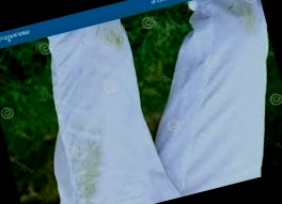earth: (67, 132, 110, 195), (99, 25, 126, 52), (233, 2, 257, 31), (78, 193, 99, 204)
